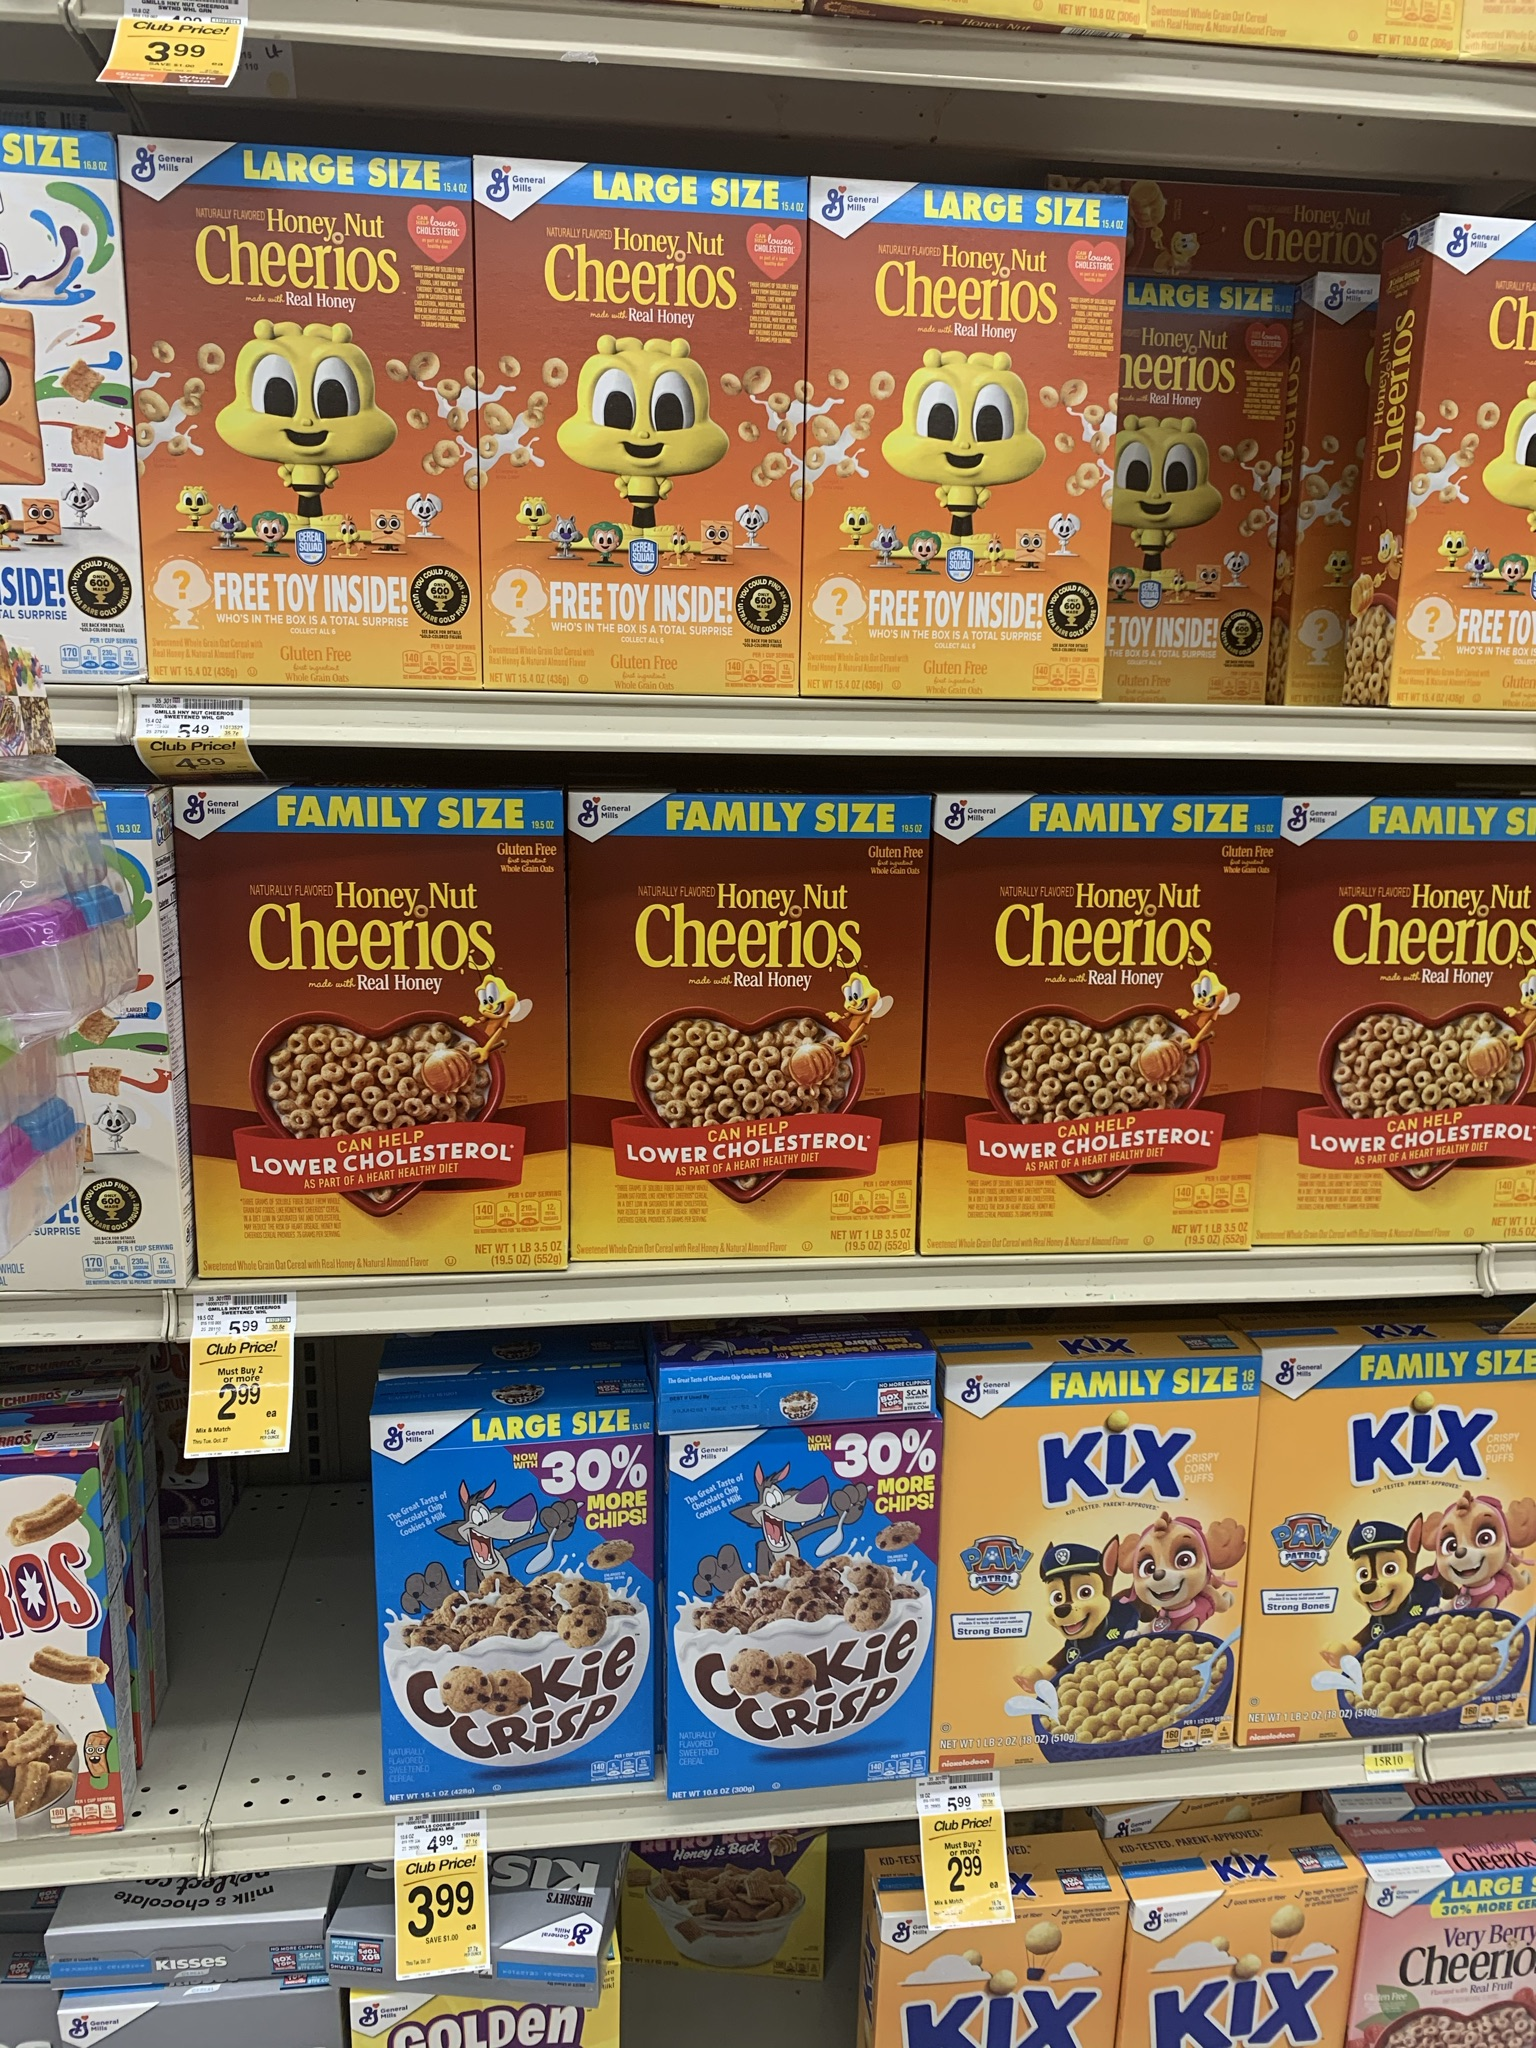cereal: (119, 144, 486, 692), (471, 160, 812, 706), (184, 805, 571, 1279), (803, 189, 1112, 713), (578, 798, 913, 1271), (945, 801, 1249, 1251), (1275, 800, 1536, 1242), (653, 1376, 933, 1784), (952, 1371, 1238, 1758), (378, 1417, 658, 1796), (1262, 1359, 1536, 1732), (1092, 290, 1312, 710), (1404, 214, 1536, 708), (1376, 1858, 1536, 2048)
